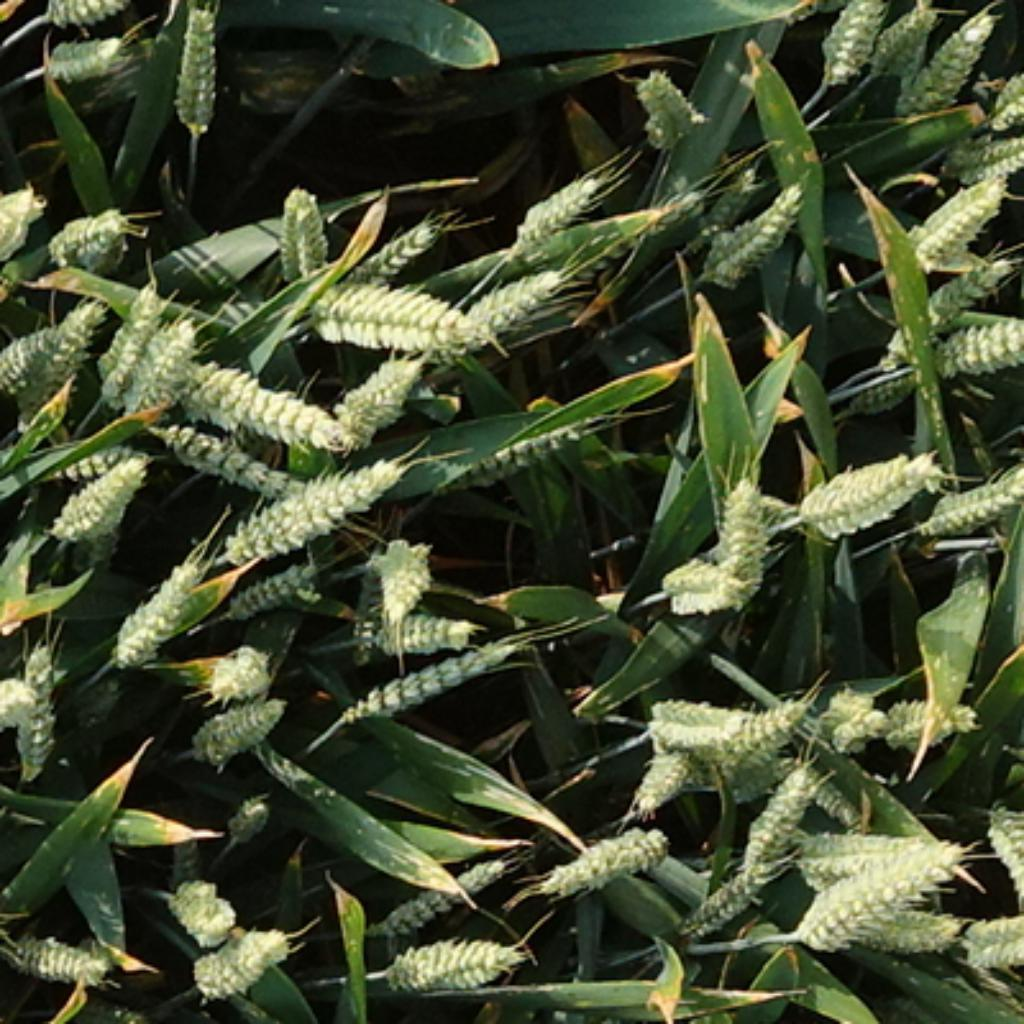0-0: (785, 832, 962, 947), (217, 455, 399, 552), (555, 184, 706, 299), (337, 637, 524, 727), (174, 343, 337, 442), (304, 273, 491, 355), (432, 414, 614, 496), (796, 437, 942, 537), (145, 412, 302, 501), (890, 2, 998, 125), (791, 816, 957, 896), (701, 179, 814, 289), (102, 555, 209, 670), (537, 808, 670, 890), (373, 921, 529, 988), (450, 263, 568, 348), (901, 171, 1003, 263), (46, 463, 151, 552), (501, 161, 606, 250), (335, 353, 427, 450), (189, 913, 291, 998), (332, 209, 450, 279), (168, 2, 227, 140), (640, 698, 760, 765), (683, 844, 775, 929), (709, 471, 770, 591), (924, 465, 1024, 537), (729, 693, 811, 780), (360, 524, 437, 616), (97, 281, 153, 407), (850, 908, 976, 964), (0, 919, 115, 980), (35, 296, 99, 404), (16, 637, 60, 794), (696, 161, 778, 245), (744, 762, 816, 857), (865, 686, 977, 747), (629, 56, 706, 143), (924, 304, 1021, 373), (189, 686, 284, 755), (660, 547, 755, 616), (138, 312, 199, 419), (266, 179, 332, 276), (368, 872, 471, 934), (814, 2, 893, 79), (225, 555, 327, 614), (43, 204, 143, 263), (929, 256, 1018, 322), (158, 865, 238, 936), (0, 314, 61, 407), (837, 350, 926, 412), (358, 604, 486, 647), (872, 2, 939, 84), (43, 30, 135, 87), (931, 120, 1021, 176), (51, 437, 161, 481), (814, 678, 883, 744), (980, 796, 1024, 898), (0, 172, 47, 266), (629, 742, 691, 811), (202, 634, 273, 691), (966, 898, 1024, 967), (799, 770, 860, 826), (0, 675, 46, 747), (220, 785, 279, 839), (40, 2, 148, 30), (988, 58, 1024, 138), (448, 847, 506, 888)
